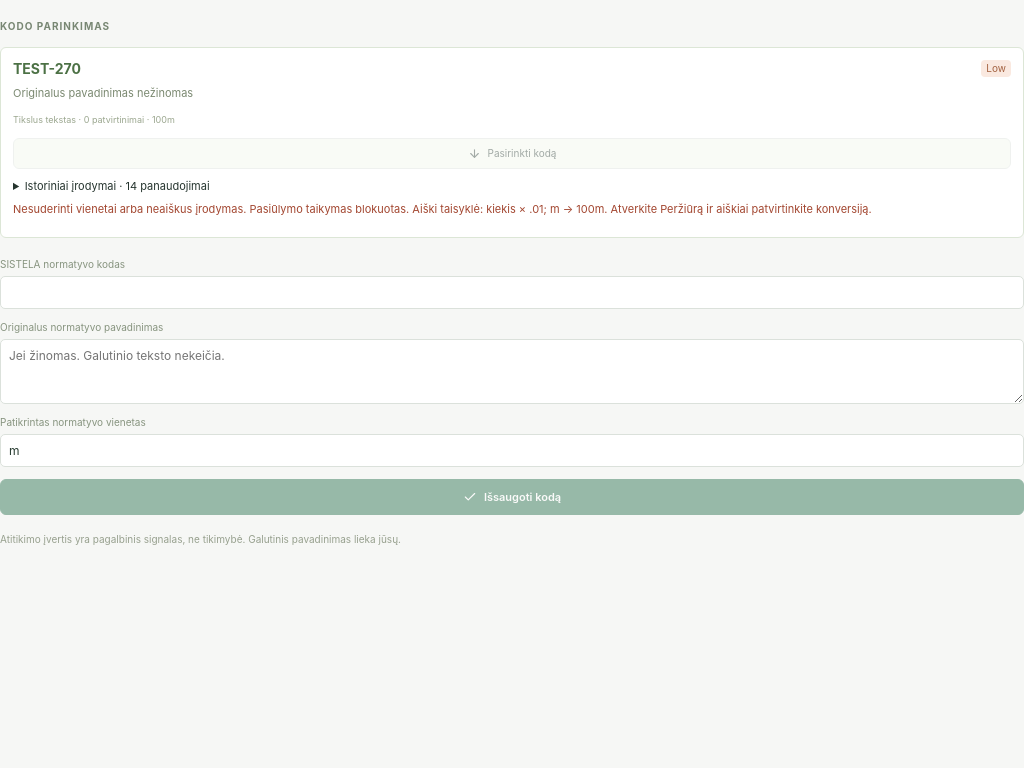
Test: historical suggestion opens evidence and convertible units block applying
Expected: the button "Pasirinkti kodą" is disabled, [13,138,1011,168]
Click the heading "Istoriniai įrodymai · 14 panaudojimai".
click(117, 186)  # box [25,178,210,192]
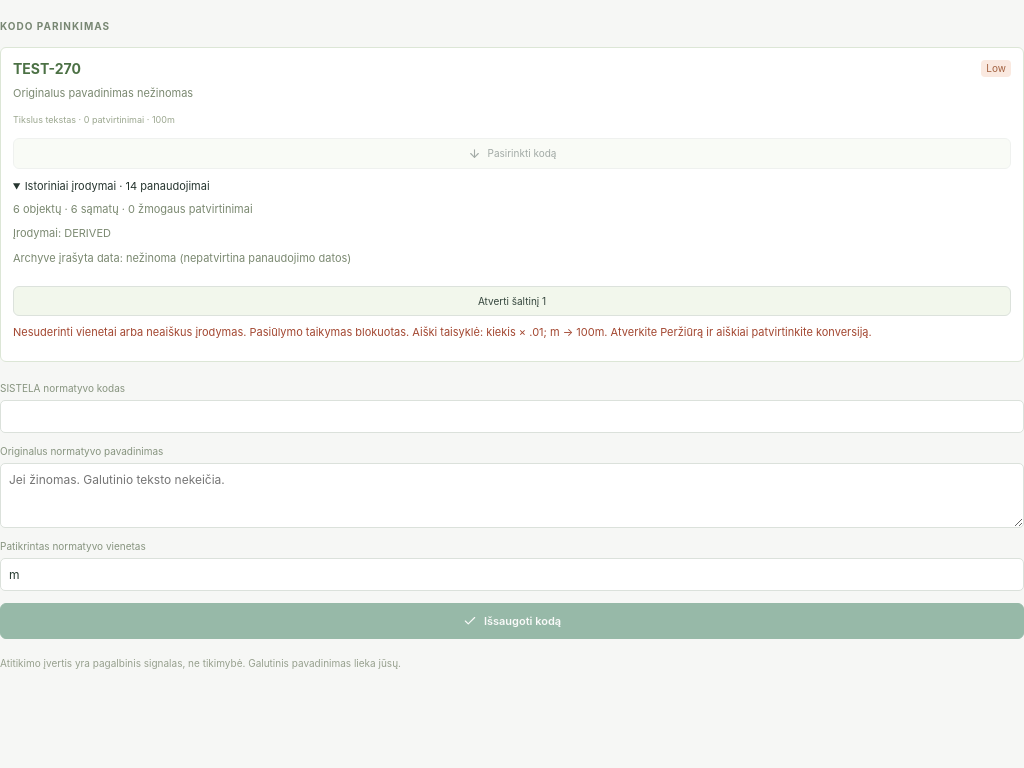
Click the button "Atverti šaltinį 1".
click(512, 301)  # box [13,286,1011,316]
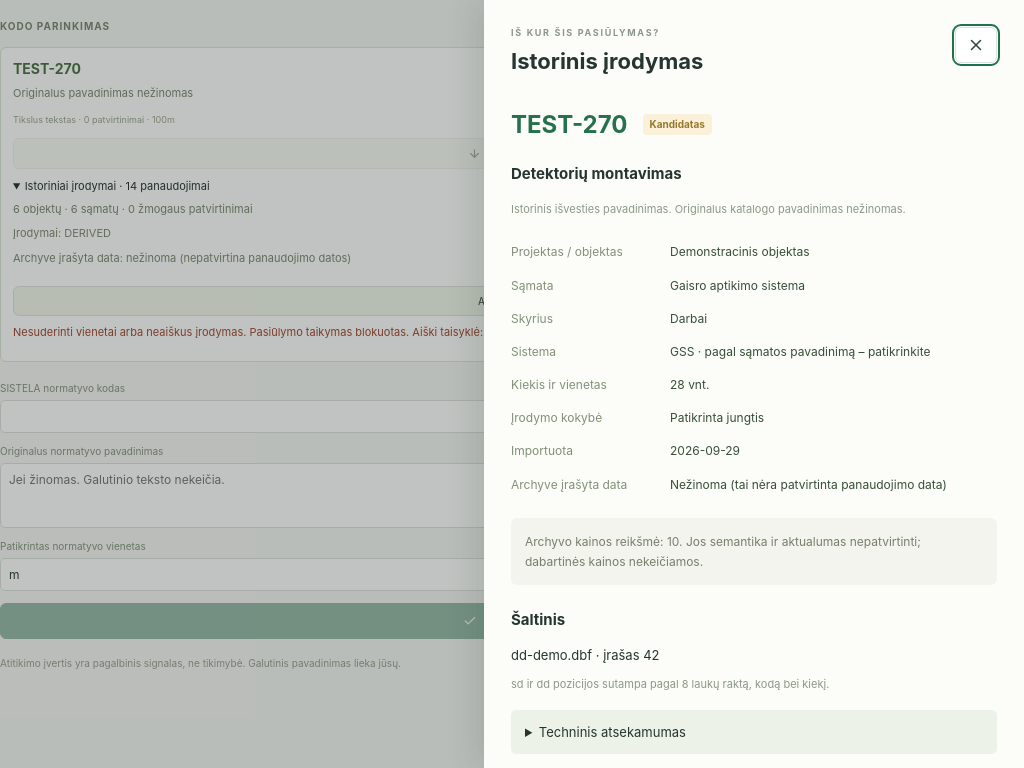
Expected: the dialog named "Istorinio pasiūlymo įrodymai" is shown, [484,0,1023,767]
